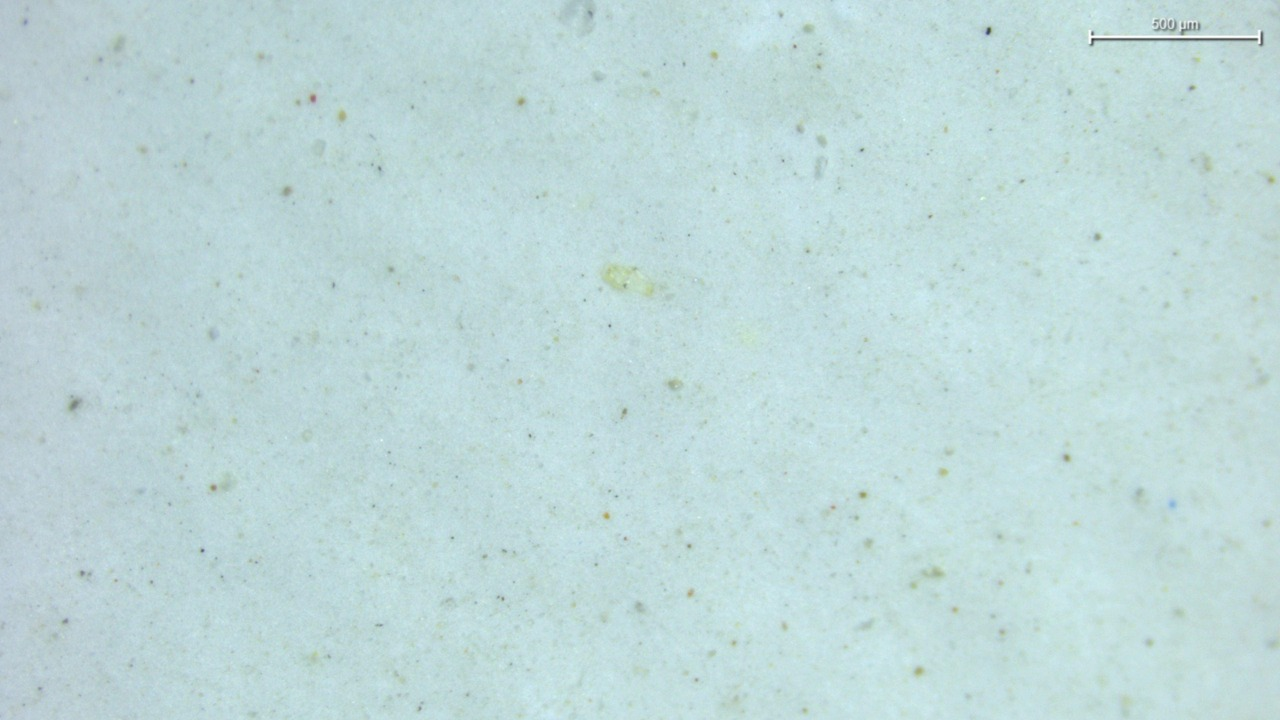microplastic_fragment: (601, 263, 655, 296)
